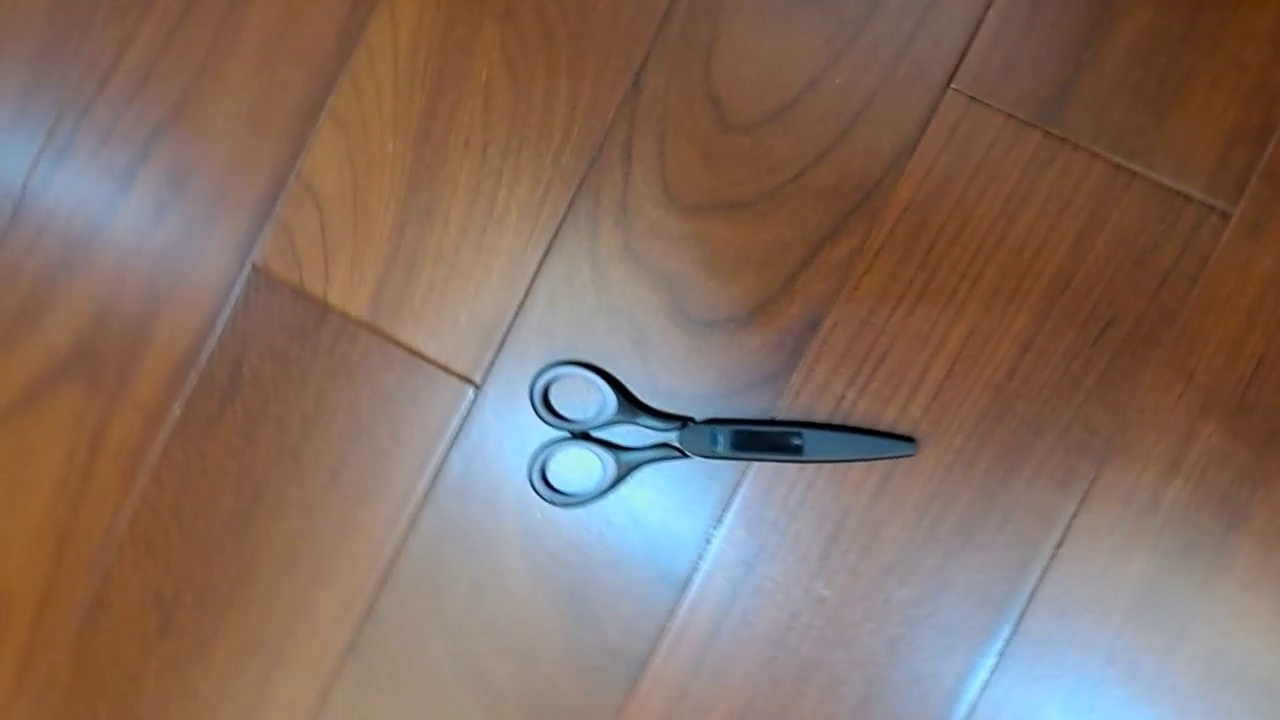scissors: (526, 358, 919, 509)
